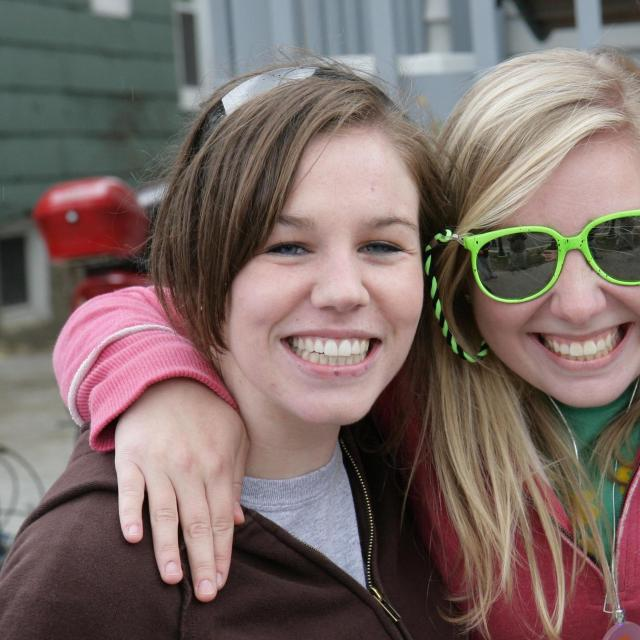no-glass: (259, 238, 406, 264)
